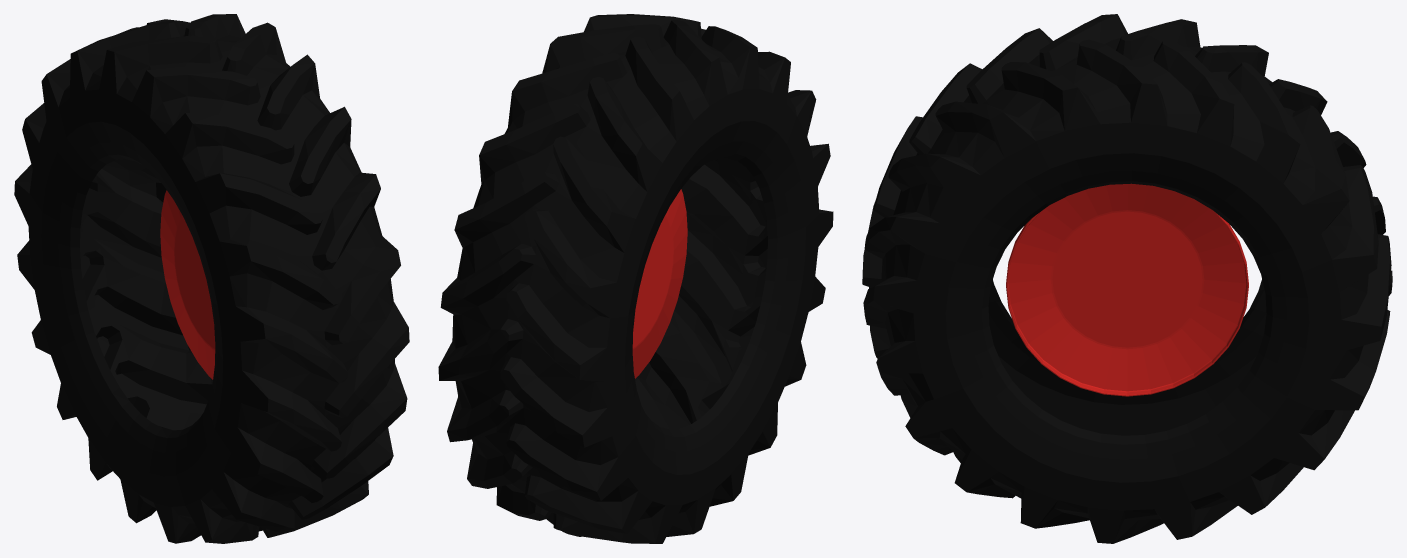
File: back_right_wheel_visuals.obj
3 renders of one model, left to right at view 1: azimuth 30°, elevation 25°; view 2: azimuth 150°, elevation 25°; view 3: azimuth 270°, elevation 25°, orthographic.
Visible parts, largest first — view 1: back_right_wheel; view 2: back_right_wheel; view 3: back_right_wheel.
Boxes of the visible parts, box(x1,y1,x2,y2) form: back_right_wheel: box(14, 14, 409, 543); back_right_wheel: box(438, 14, 833, 543); back_right_wheel: box(862, 14, 1392, 543).
Size of the model in its own units: 7.3 by 21.01 by 21.01.
